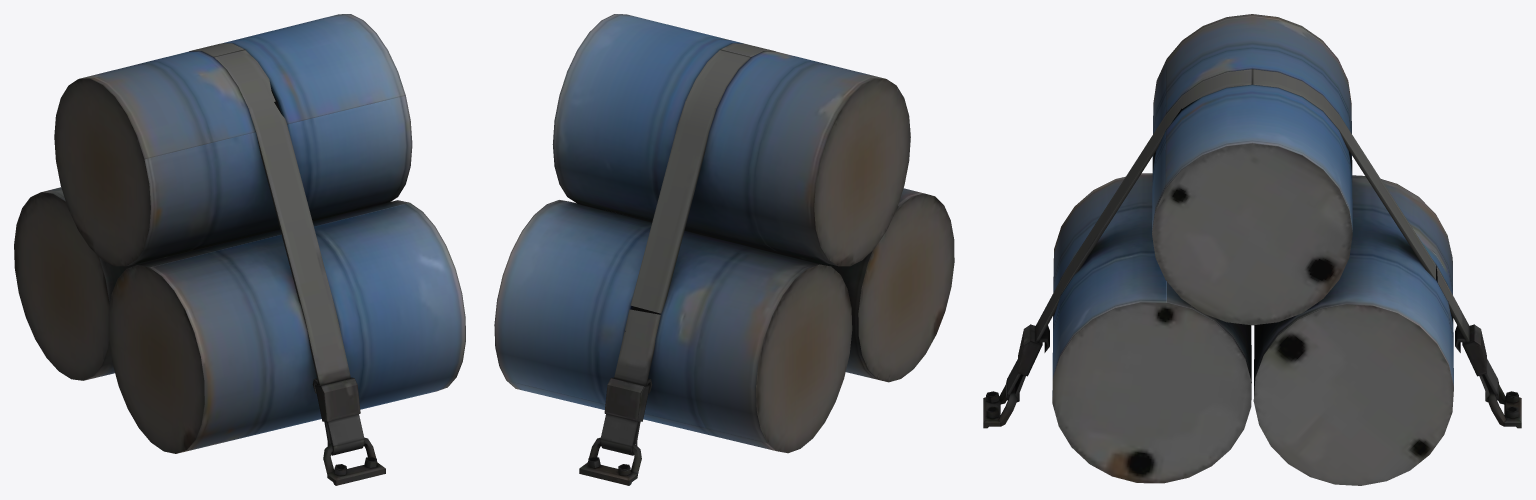
The picture shows the model from 3 angles, left to right: view 1: azimuth 30°, elevation 25°; view 2: azimuth 150°, elevation 25°; view 3: azimuth 270°, elevation 25°; orthographic projection. The views are drawn at different scales.
Parts seen in each view (by area): view 1: body0_model0_lod0_mesh0; view 2: body0_model0_lod0_mesh0; view 3: body0_model0_lod0_mesh0.
Part boxes in pixels (x1=…): body0_model0_lod0_mesh0: x1=14, y1=14, x2=465, y2=485; body0_model0_lod0_mesh0: x1=494, y1=14, x2=954, y2=485; body0_model0_lod0_mesh0: x1=983, y1=14, x2=1521, y2=485.
Bounding box in the file's own units: 82.77 × 97.02 × 139.
1 material, 1 textured.
